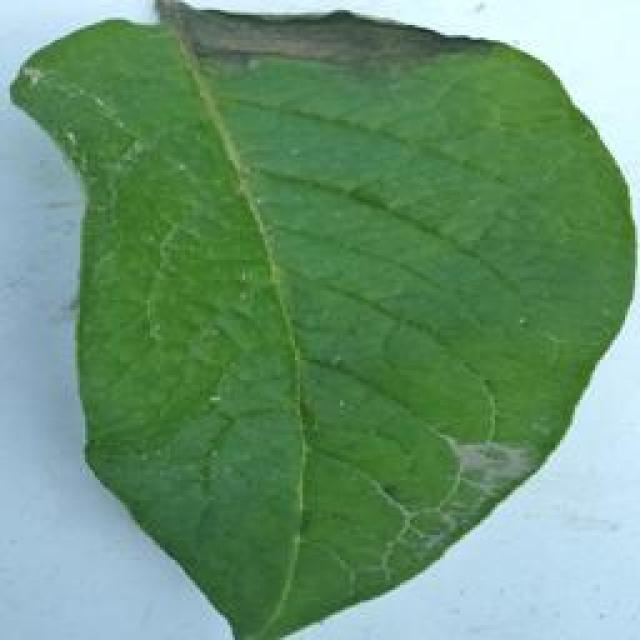Potato_Late_Blight: (11, 7, 626, 638)
